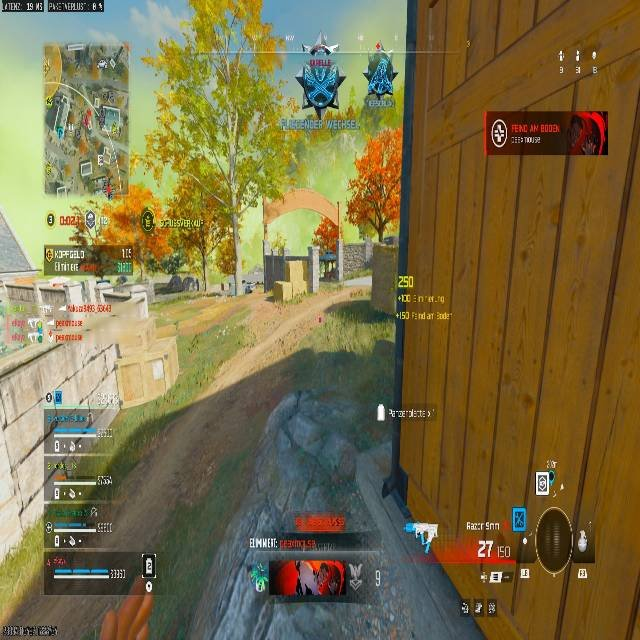head: (309, 44, 330, 56)
player: (294, 44, 344, 120), (364, 50, 394, 101)
